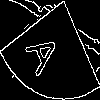A: (25, 24, 68, 79)
